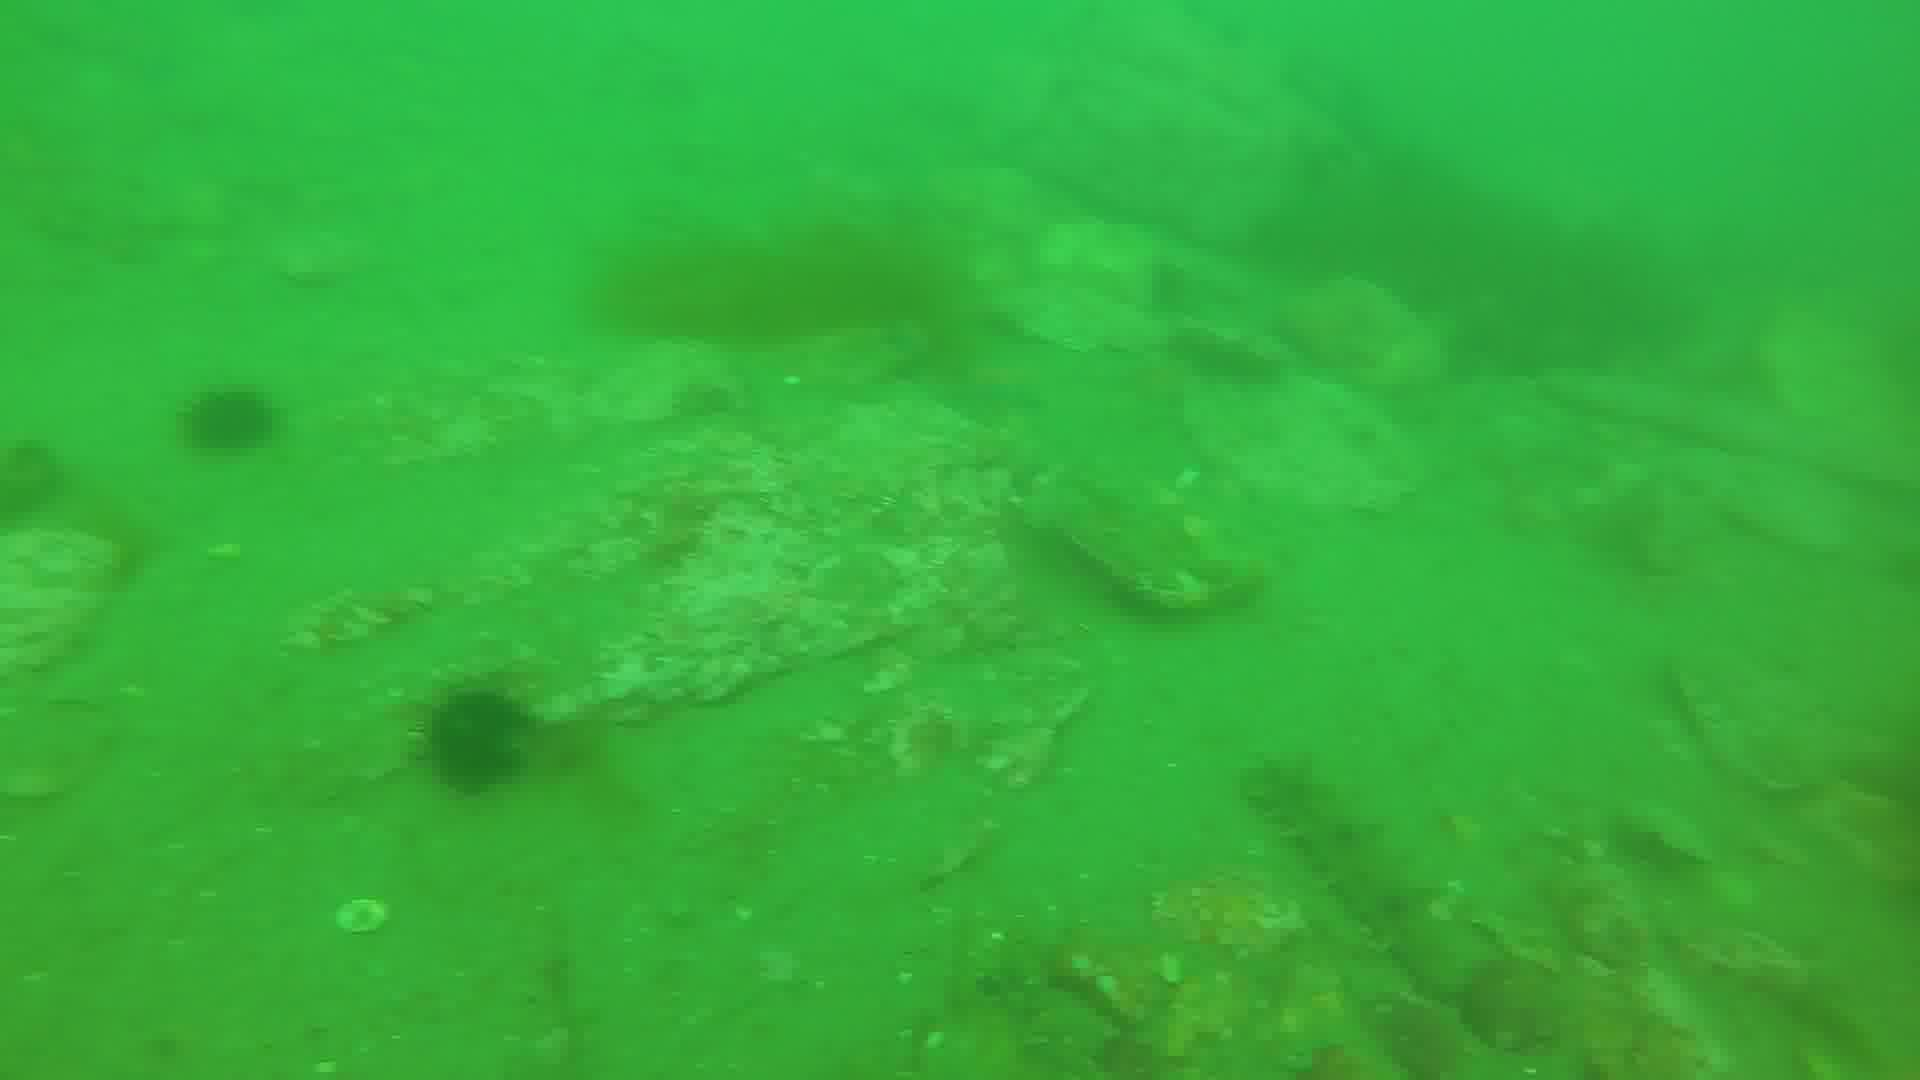echinus: (433, 690, 541, 796), (189, 389, 289, 452)
holothurian: (1236, 746, 1480, 998)
